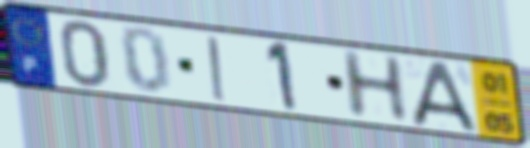0: (57, 17, 113, 90), (118, 26, 172, 97)
1: (263, 39, 300, 114)
A: (409, 60, 481, 134)
H: (336, 48, 413, 123)
I: (203, 34, 231, 105)
